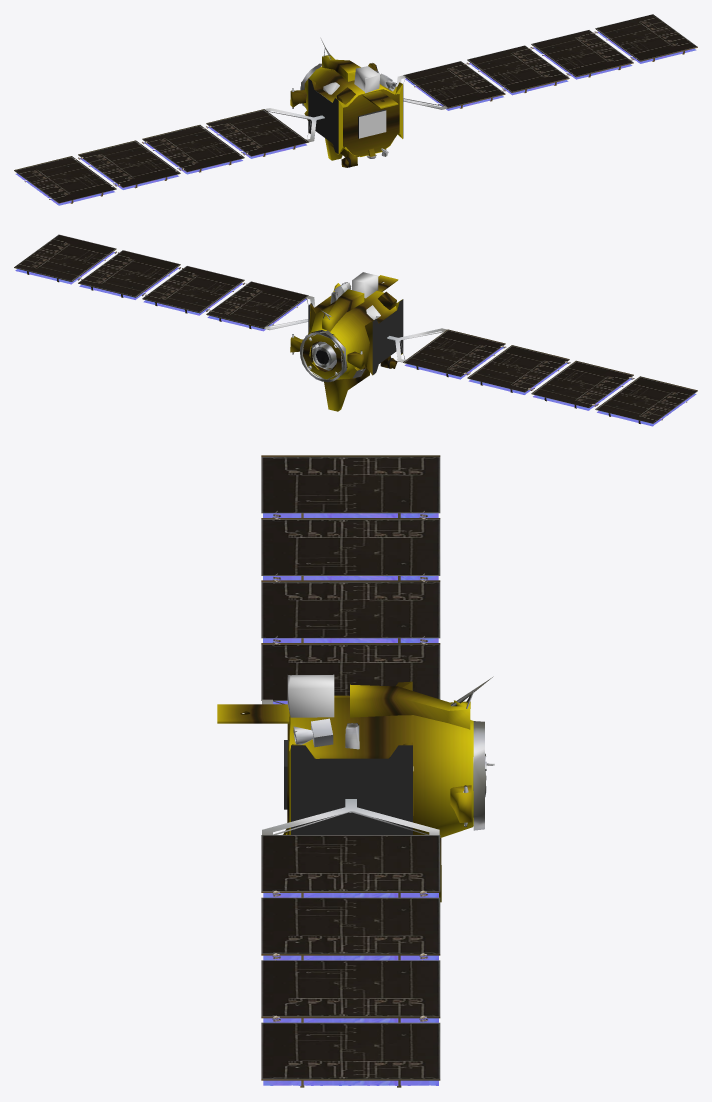
3 views of the same model, one above another, from view 1: azimuth 30°, elevation 25°; view 2: azimuth 150°, elevation 25°; view 3: azimuth 270°, elevation 25° (orthographic). The views are drawn at different scales.
Visible parts, largest first — view 1: ds1_lod2; view 2: ds1_lod2; view 3: ds1_lod2.
Part boxes in pixels (x1,y1,x2,y2): ds1_lod2: (14,14,697,205); ds1_lod2: (14,234,697,426); ds1_lod2: (217,455,494,1087).
Size of the model in its own units: 11.75 by 1.95 by 2.21.
Materials: 5 (3 with a texture image).
